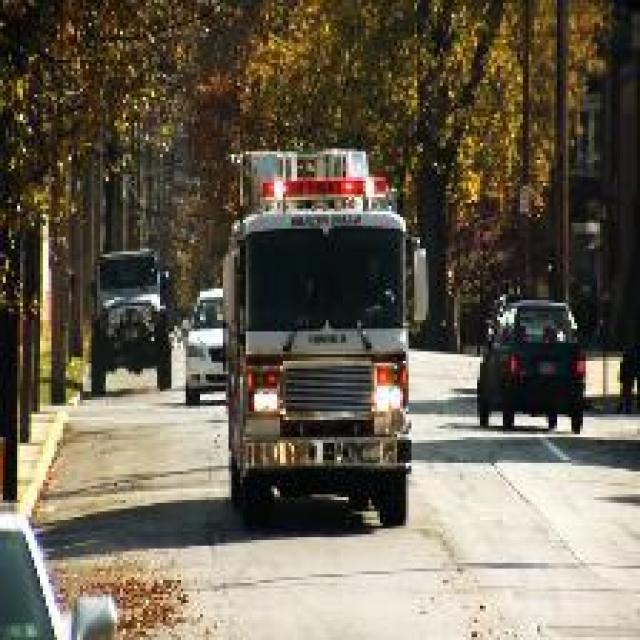other: (263, 173, 391, 202), (364, 372, 412, 411), (249, 384, 275, 418)
